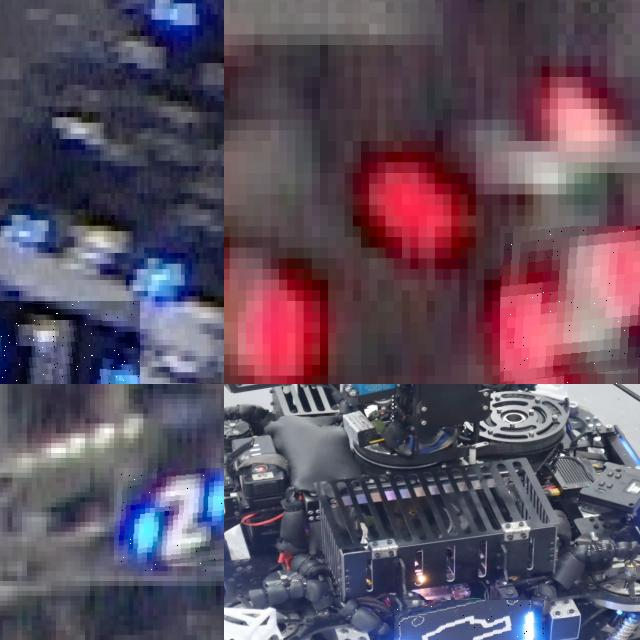B1: (0, 301, 140, 384)
B2: (114, 467, 224, 571)
Bs: (394, 600, 545, 640)
R4: (500, 226, 640, 384)
